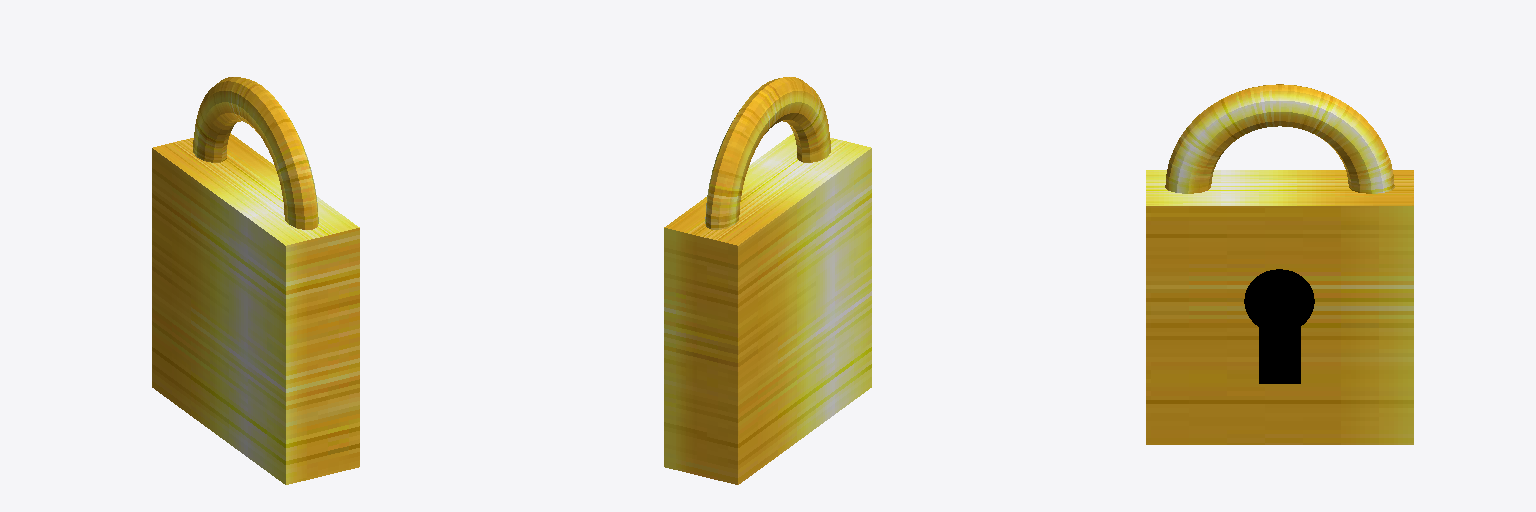
The picture shows the model from 3 angles: view 1: azimuth 30°, elevation 25°; view 2: azimuth 150°, elevation 25°; view 3: azimuth 270°, elevation 25°; orthographic projection.
Parts seen in each view (by area): view 1: Cube; view 2: Cube; view 3: Cube.
Boxes of the visible parts, x1,y1,x2,y2 form: Cube: [152, 77, 359, 484]; Cube: [664, 77, 871, 484]; Cube: [1146, 84, 1413, 444].
Size of the model in its own units: 0.3866 by 1.7 by 1.21.
2 materials, 2 textured.